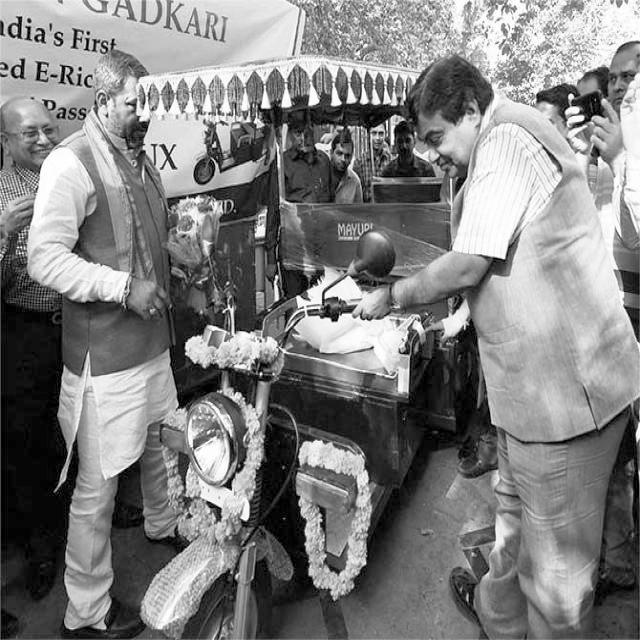Toto: (144, 47, 435, 640)
